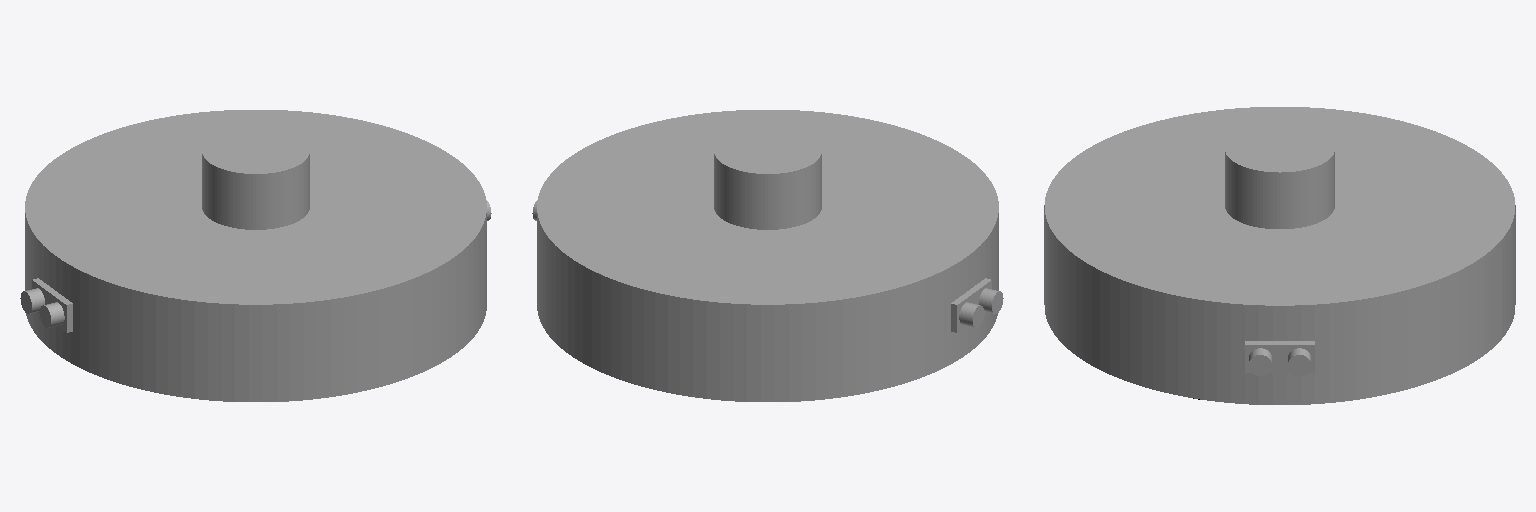
robot.urdf — assembly_3:
<?xml version="1.0"?>
<robot name="assembly_3" xmlns:xacro="http://www.ros.org/wiki/xacro">

<material name="silver">
  <color rgba="0.700 0.700 0.700 1.000"/>
</material>

<material name="black">
  <color rgba="0 0 0 1"/>
</material>

<!-- BASE LINK -->
<link name="base_link">
  <inertial>
    <origin xyz="-6.745525765719935e-05 0.0012816498954868177 0.0354047315459432" rpy="0 0 0"/>
    <mass value="37.821366170820795"/>
    <inertia ixx="0.23125" iyy="0.223709" izz="0.423982" ixy="-0.000124" iyz="0.000747" ixz="-3.9e-05"/>
  </inertial>
  <visual>
    <origin xyz="0 0 0" rpy="0 0 0"/>
    <geometry>
      <mesh filename="package://r2d10/meshes/base_link.stl" scale="0.001 0.001 0.001"/>
    </geometry>
    <material name="silver"/> 
  </visual>
  <collision>
    <origin xyz="0 0 0" rpy="0 0 0"/>
    <geometry>
      <mesh filename="package://r2d10/meshes/base_link.stl" scale="0.001 0.001 0.001"/>
    </geometry>
  </collision>
</link>

<!-- CASTER LINK -->
<link name="caster_1">
  <inertial>
    <origin xyz="0.0 0.11 -0.0043996518255540636" rpy="0 0 0"/>
    <mass value="0.0707011858312227"/>
    <inertia ixx="6e-06" iyy="6e-06" izz="1e-05" ixy="0.0" iyz="-0.0" ixz="0.0"/>
  </inertial>
  <visual>
    <origin xyz="-0.0 -0.0 -0.0" rpy="0 0 0"/>
    <geometry>
      <mesh filename="package://r2d10/meshes/caster_1.stl" scale="0.001 0.001 0.001"/>
    </geometry>
    <material name="silver"/>
  </visual>
  <collision>
    <origin xyz="-0.0 -0.0 -0.0" rpy="0 0 0"/>
    <geometry>
      <mesh filename="package://r2d10/meshes/caster_1.stl" scale="0.001 0.001 0.001"/>
    </geometry>
  </collision>
</link>

<!-- LEFT WHEEL LINK -->
<link name="left_wheel_1">
  <inertial>
    <origin xyz="-0.012500000000000011 0.0 0.0" rpy="0 0 0"/>
    <mass value="0.6512177959195155"/>
    <inertia ixx="0.000344" iyy="0.000206" izz="0.000206" ixy="0.0" iyz="-0.0" ixz="0.0"/>
  </inertial>
  <visual>
    <origin xyz="0.085 0.0475 -0.02" rpy="0 0 0"/>
    <geometry>
      <mesh filename="package://r2d10/meshes/left_wheel_1.stl" scale="0.001 0.001 0.001"/>
    </geometry>
    <material name="black"/>
  </visual>
  <collision>
    <origin xyz="0.085 0.0475 -0.02" rpy="0 0 0"/>
    <geometry>
      <mesh filename="package://r2d10/meshes/left_wheel_1.stl" scale="0.001 0.001 0.001"/>
    </geometry>
  </collision>
</link>

<!-- RIGHT WHEEL LINK -->
<link name="right_wheel_1">
  <inertial>
    <origin xyz="0.012500000000000108 0.0 -6.938893903907228e-18" rpy="0 0 0"/>
    <mass value="0.6512177959195155"/>
    <inertia ixx="0.000344" iyy="0.000206" izz="0.000206" ixy="0.0" iyz="0.0" ixz="0.0"/>
  </inertial>
  <visual>
    <origin xyz="-0.09 0.0475 -0.02" rpy="0 0 0"/>
    <geometry>
      <mesh filename="package://r2d10/meshes/right_wheel_1.stl" scale="0.001 0.001 0.001"/>
    </geometry>
    <material name="black"/>
  </visual>
  <collision>
    <origin xyz="-0.09 0.0475 -0.02" rpy="0 0 0"/>
    <geometry>
      <mesh filename="package://r2d10/meshes/right_wheel_1.stl" scale="0.001 0.001 0.001"/>
    </geometry>
  </collision>
</link>

<!-- ULTRASONIC FORWARD LINK -->
<link name="ultrasonic_forward_1">
  <inertial>
    <origin xyz="-6.89984745874354e-13 0.005799256348663379 -6.55503359925369e-11" rpy="0 0 0"/>
    <mass value="0.06306919012201337"/>
    <inertia ixx="3e-06" iyy="1.2e-05" izz="1.2e-05" ixy="-0.0" iyz="0.0" ixz="-0.0"/>
  </inertial>
  <visual>
    <origin xyz="-0.0 -0.15 -0.035" rpy="0 0 0"/>
    <geometry>
      <mesh filename="package://r2d10/meshes/ultrasonic_forward_1.stl" scale="0.001 0.001 0.001"/>
    </geometry>
    <material name="silver"/>
  </visual>
  <collision>
    <origin xyz="-0.0 -0.15 -0.035" rpy="0 0 0"/>
    <geometry>
      <mesh filename="package://r2d10/meshes/ultrasonic_forward_1.stl" scale="0.001 0.001 0.001"/>
    </geometry>
  </collision>
</link>

<!-- ULTRASONIC LEFT LINK -->
<link name="ultrasonic_left_1">
  <inertial>
    <origin xyz="-0.005799256348663379 -6.899762237296075e-13 -6.55503359925369e-11" rpy="0 0 0"/>
    <mass value="0.06306919012201337"/>
    <inertia ixx="1.2e-05" iyy="3e-06" izz="1.2e-05" ixy="0.0" iyz="-0.0" ixz="-0.0"/>
  </inertial>
  <visual>
    <origin xyz="0.15 -0.0 -0.035" rpy="0 0 0"/>
    <geometry>
      <mesh filename="package://r2d10/meshes/ultrasonic_left_1.stl" scale="0.001 0.001 0.001"/>
    </geometry>
    <material name="silver"/>
  </visual>
  <collision>
    <origin xyz="0.15 -0.0 -0.035" rpy="0 0 0"/>
    <geometry>
      <mesh filename="package://r2d10/meshes/ultrasonic_left_1.stl" scale="0.001 0.001 0.001"/>
    </geometry>
  </collision>
</link>

<!-- ULTRASONIC RIGHT LINK -->
<link name="ultrasonic_right_1">
  <inertial>
    <origin xyz="0.005799256348663379 6.899932680191004e-13 -6.55503359925369e-11" rpy="0 0 0"/>
    <mass value="0.06306919012201337"/>
    <inertia ixx="1.2e-05" iyy="3e-06" izz="1.2e-05" ixy="0.0" iyz="0.0" ixz="0.0"/>
  </inertial>
  <visual>
    <origin xyz="-0.15 -0.0 -0.035" rpy="0 0 0"/>
    <geometry>
      <mesh filename="package://r2d10/meshes/ultrasonic_right_1.stl" scale="0.001 0.001 0.001"/>
    </geometry>
    <material name="silver"/>
  </visual>
  <collision>
    <origin xyz="-0.15 -0.0 -0.035" rpy="0 0 0"/>
    <geometry>
      <mesh filename="package://r2d10/meshes/ultrasonic_right_1.stl" scale="0.001 0.001 0.001"/>
    </geometry>
  </collision>
</link>

<!-- LIDAR LINK -->
<link name="lidar_1">
  <inertial>
    <origin xyz="7.385233546074017e-18 0.0 0.01999999999999999" rpy="0 0 0"/>
    <mass value="1.2084136142033137"/>
    <inertia ixx="0.000531" iyy="0.000531" izz="0.00074" ixy="0.0" iyz="0.0" ixz="0.0"/>
  </inertial>
  <visual>
    <origin xyz="-0.0 -0.0 -0.07" rpy="0 0 0"/>
    <geometry>
      <mesh filename="package://r2d10/meshes/lidar_1.stl" scale="0.001 0.001 0.001"/>
    </geometry>
    <material name="silver"/>
  </visual>
  <collision>
    <origin xyz="-0.0 -0.0 -0.07" rpy="0 0 0"/>
    <geometry>
      <mesh filename="package://r2d10/meshes/lidar_1.stl" scale="0.001 0.001 0.001"/>
    </geometry>
  </collision>
</link>

<!-- JOINTS -->
<joint name="Rigid_1" type="fixed">
  <origin xyz="0.0 0.0 0.0" rpy="0 0 0"/>
  <parent link="base_link"/>
  <child link="caster_1"/>
</joint>

<joint name="Revolute_2" type="continuous">
  <origin xyz="-0.085 -0.0475 0.02" rpy="0 0 0"/>
  <parent link="base_link"/>
  <child link="left_wheel_1"/>
  <axis xyz="-1.0 0.0 0.0"/>
</joint>

<joint name="Revolute_3" type="continuous">
  <origin xyz="0.09 -0.0475 0.02" rpy="0 0 0"/>
  <parent link="base_link"/>
  <child link="right_wheel_1"/>
  <axis xyz="-1.0 0.0 0.0"/>
</joint>

<joint name="Rigid_5" type="fixed">
  <origin xyz="0.0 0.15 0.035" rpy="0 0 0"/>
  <parent link="base_link"/>
  <child link="ultrasonic_forward_1"/>
</joint>

<joint name="Rigid_6" type="fixed">
  <origin xyz="-0.15 0.0 0.035" rpy="0 0 0"/>
  <parent link="base_link"/>
  <child link="ultrasonic_left_1"/>
</joint>

<joint name="Rigid_7" type="fixed">
  <origin xyz="0.15 0.0 0.035" rpy="0 0 0"/>
  <parent link="base_link"/>
  <child link="ultrasonic_right_1"/>
</joint>

<joint name="Rigid_9" type="fixed">
  <origin xyz="0.0 0.0 0.07" rpy="0 0 0"/>
  <parent link="base_link"/>
  <child link="lidar_1"/>
</joint>

<!-- GAZEBO SENSOR PLUGINS - MUST BE OUTSIDE LINK DEFINITIONS -->

<!-- LIDAR SENSOR -->
<gazebo reference="lidar_1">
  <sensor name="lidar_1" type="gpu_lidar">
    <topic>/scan</topic>
    <update_rate>10</update_rate>
    <lidar>
      <scan>
        <horizontal>
          <samples>360</samples>
          <resolution>1</resolution>
          <min_angle>-3.14159</min_angle>
          <max_angle>3.14159</max_angle>
        </horizontal>
      </scan>
      <range>
        <min>0.12</min>
        <max>8.0</max>
        <resolution>0.01</resolution>
      </range>
    </lidar>
    <always_on>true</always_on>
    <visualize>true</visualize>
  </sensor>
</gazebo>
<!-- ULTRASONIC FORWARD SENSOR -->
<gazebo reference="ultrasonic_forward_1">
  <sensor name="ultrasonic_forward_sensor" type="gpu_ray">
    <topic>ultrasonic_forward</topic>
    <update_rate>10</update_rate>
    <ray>
      <scan>
        <horizontal>
          <samples>5</samples>
          <resolution>1</resolution>
          <min_angle>-0.12</min_angle>
          <max_angle>0.12</max_angle>
        </horizontal>
        <vertical>
          <samples>5</samples>
          <resolution>1</resolution>
          <min_angle>-0.12</min_angle>
          <max_angle>0.12</max_angle>
        </vertical>
      </scan>
      <range>
        <min>0.02</min>
        <max>4.0</max>
        <resolution>0.01</resolution>
      </range>
    </ray>
    <always_on>true</always_on>
    <visualize>true</visualize>
  </sensor>
</gazebo>

<!-- ULTRASONIC LEFT SENSOR -->
<gazebo reference="ultrasonic_left_1">
  <sensor name="ultrasonic_left_sensor" type="gpu_ray">
    <topic>ultrasonic_left</topic>
    <update_rate>10</update_rate>
    <ray>
      <scan>
        <horizontal>
          <samples>5</samples>
          <resolution>1</resolution>
          <min_angle>-0.12</min_angle>
          <max_angle>0.12</max_angle>
        </horizontal>
        <vertical>
          <samples>5</samples>
          <resolution>1</resolution>
          <min_angle>-0.12</min_angle>
          <max_angle>0.12</max_angle>
        </vertical>
      </scan>
      <range>
        <min>0.02</min>
        <max>4.0</max>
        <resolution>0.01</resolution>
      </range>
    </ray>
    <always_on>true</always_on>
    <visualize>true</visualize>
  </sensor>
</gazebo>

<!-- ULTRASONIC RIGHT SENSOR -->
<gazebo reference="ultrasonic_right_1">
  <sensor name="ultrasonic_right_sensor" type="gpu_ray">
    <topic>ultrasonic_right</topic>
    <update_rate>10</update_rate>
    <ray>
      <scan>
        <horizontal>
          <samples>5</samples>
          <resolution>1</resolution>
          <min_angle>-0.12</min_angle>
          <max_angle>0.12</max_angle>
        </horizontal>
        <vertical>
          <samples>5</samples>
          <resolution>1</resolution>
          <min_angle>-0.12</min_angle>
          <max_angle>0.12</max_angle>
        </vertical>
      </scan>
      <range>
        <min>0.02</min>
        <max>4.0</max>
        <resolution>0.01</resolution>
      </range>
    </ray>
    <always_on>true</always_on>
    <visualize>true</visualize>
  </sensor>
</gazebo>

<!-- DIFFERENTIAL DRIVE -->
<gazebo>
  <plugin filename="gz-sim-diff-drive-system" name="gz::sim::systems::DiffDrive">
    <left_joint>Revolute_2</left_joint>
    <right_joint>Revolute_3</right_joint>
    <wheel_separation>0.175</wheel_separation>
    <wheel_radius>0.04</wheel_radius>
    <odom_publish_frequency>50</odom_publish_frequency>
    <topic>cmd_vel</topic>
    <odom_topic>odometry</odom_topic>
    <frame_id>odom</frame_id>
    <child_frame_id>base_link</child_frame_id>
  </plugin>
</gazebo>

<!-- JOINT STATE PUBLISHER -->
<gazebo>
  <plugin filename="gz-sim-joint-state-publisher-system" name="gz::sim::systems::JointStatePublisher"/>
</gazebo>

<!-- POSE PUBLISHER -->
<gazebo>
  <plugin filename="gz-sim-pose-publisher-system" name="gz::sim::systems::PosePublisher">
    <publish_link_pose>true</publish_link_pose>
    <use_pose_vector_msg>true</use_pose_vector_msg>
  </plugin>
</gazebo>

</robot>

--- Render facts (derived) ---
Views: 3 orthographic renders of the robot side by side, from view 1: azimuth 30°, elevation 25°; view 2: azimuth 150°, elevation 25°; view 3: azimuth 270°, elevation 25°.
Robot: assembly_3 — 8 links, 7 joints (2 continuous, 5 fixed); root link base_link; default pose: every joint at zero.
Links seen in each view (by area): view 1: base_link, lidar_1, ultrasonic_left_1; view 2: base_link, lidar_1, ultrasonic_left_1; view 3: base_link, lidar_1, ultrasonic_right_1.
Boxes of the visible links, x1,y1,x2,y2 form: base_link: (25,110,486,401); lidar_1: (202,129,309,229); ultrasonic_left_1: (20,278,72,332); base_link: (537,110,998,401); lidar_1: (714,129,821,229); ultrasonic_left_1: (951,278,1003,332); base_link: (1044,107,1515,404); lidar_1: (1225,126,1334,228); ultrasonic_right_1: (1245,341,1314,375).
Bounding box of the posed robot: 0.33 × 0.3 × 0.1225 m (x, y, z).
Meshes: 8 distinct files referenced, 7 mesh visuals loaded (7 binary STL); not drawn: 1 (file found but could not be loaded).